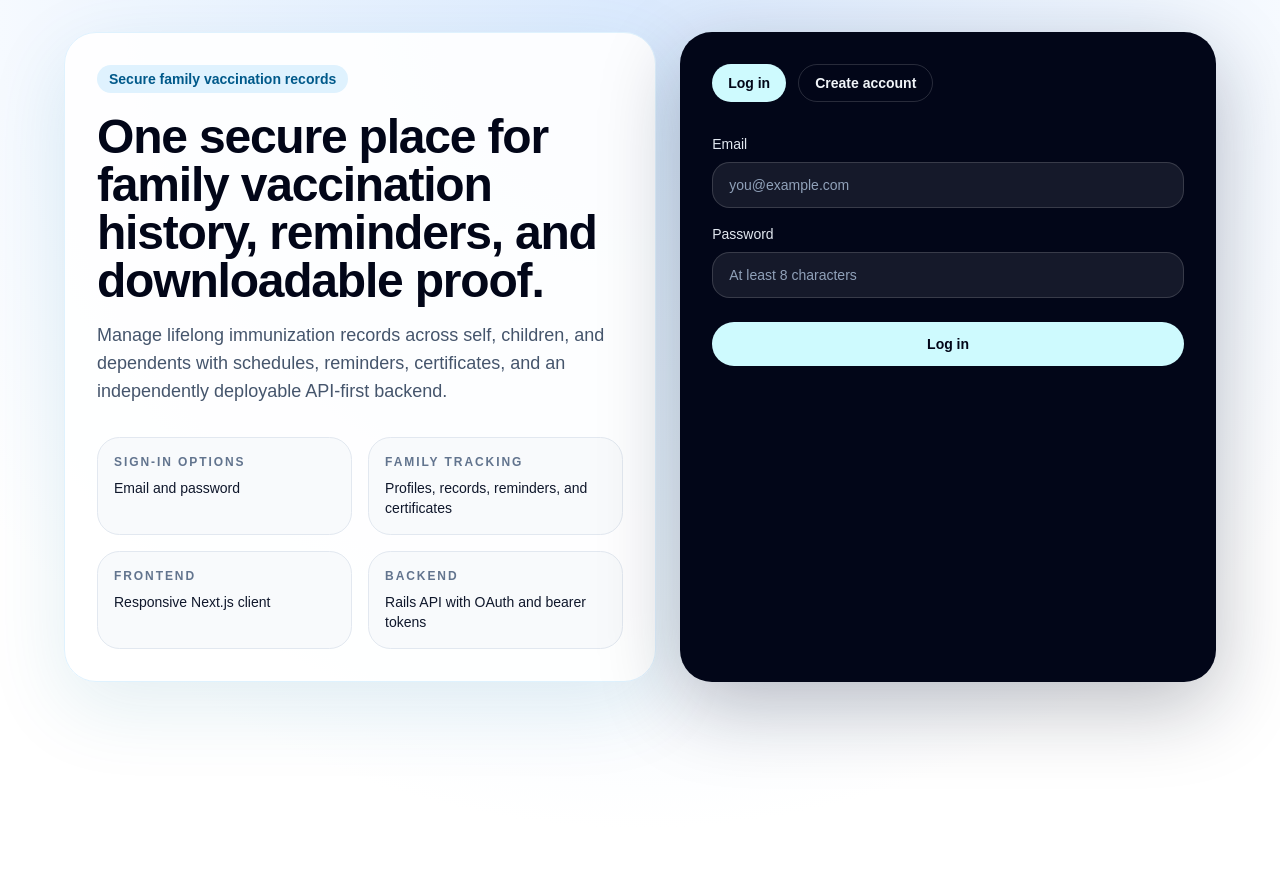
AuthShell › renders authenticated dashboard after successful login
Type "priya@example.com" into the field labelled "Email". click: (948,185)
box: [712,162,1184,208]
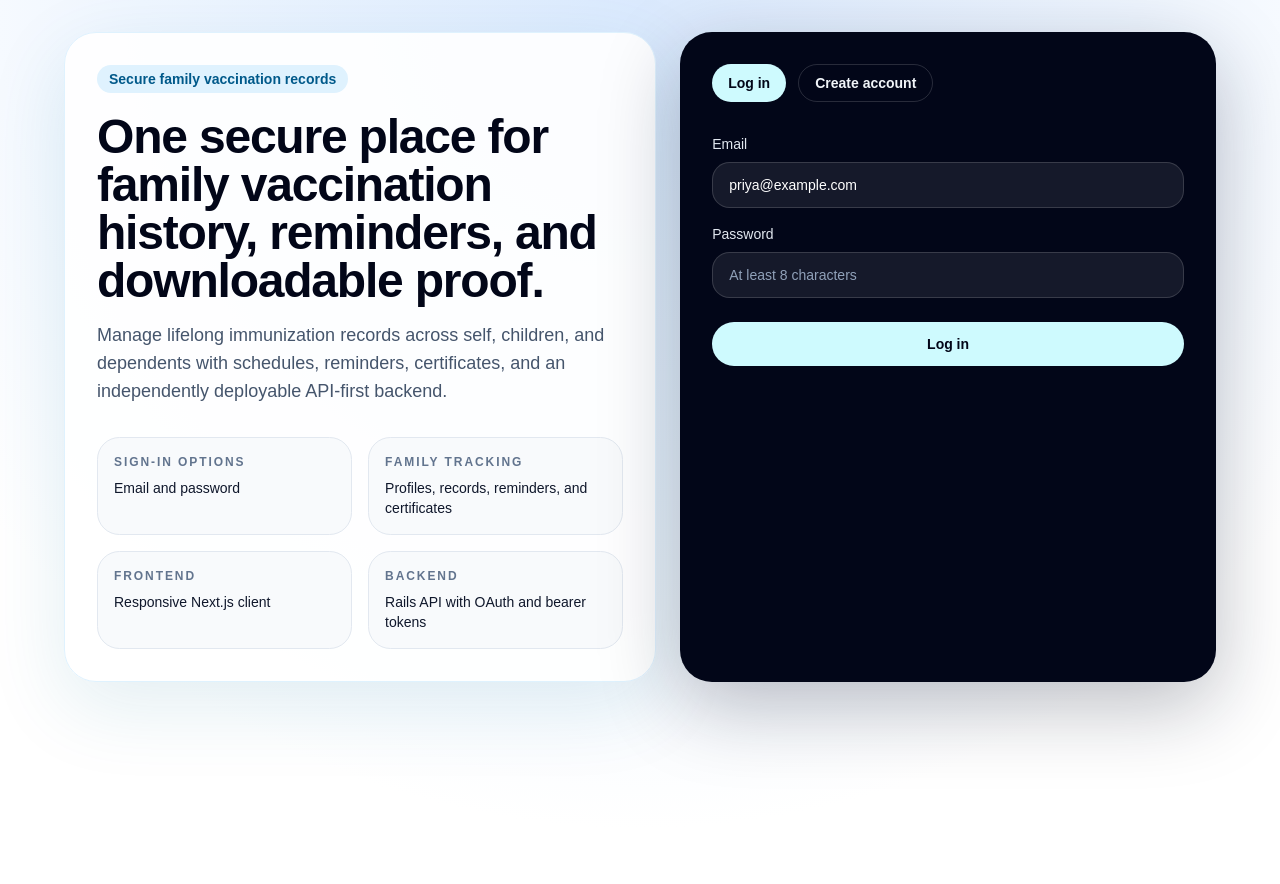
Type "password123" into the password field labelled "Password". click: (948,275)
box: [712,252,1184,298]
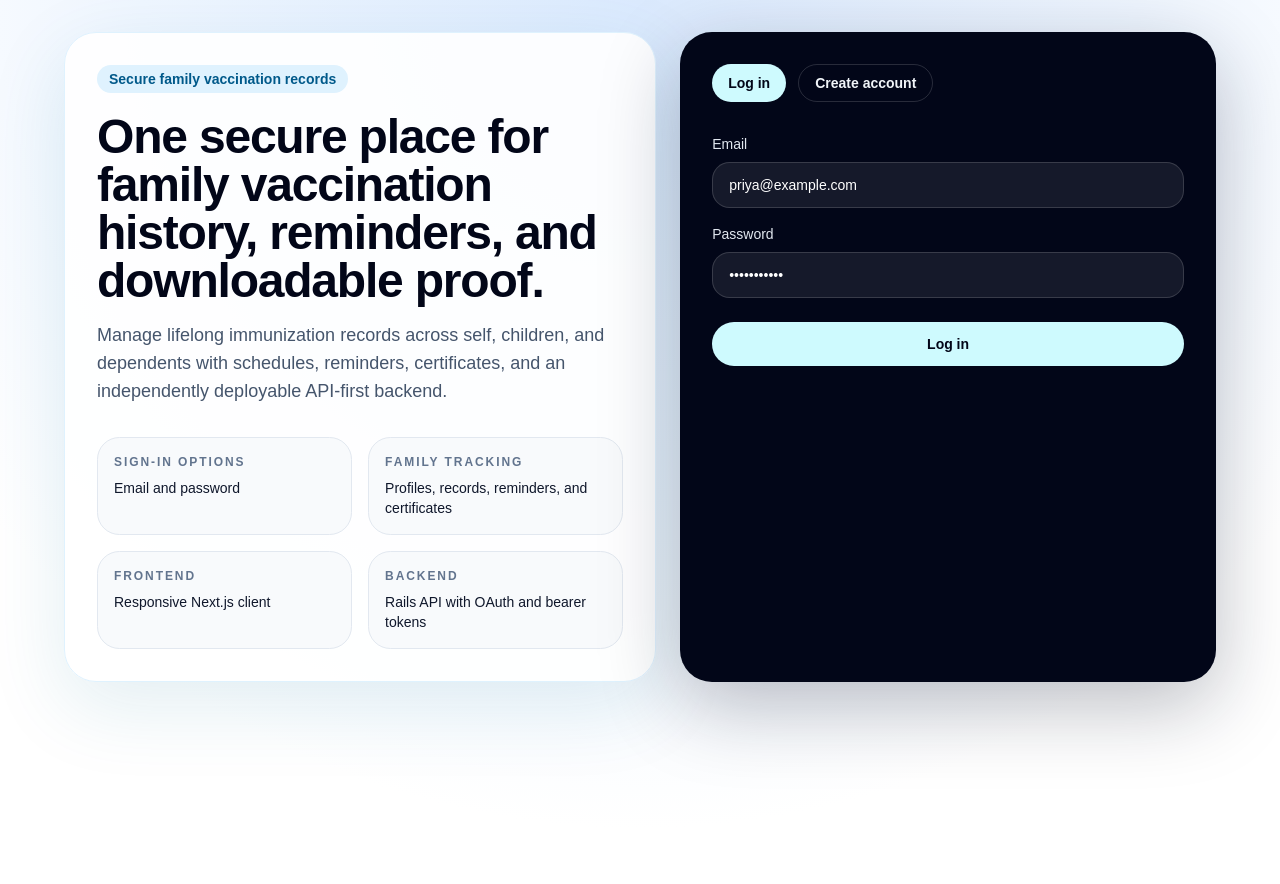
Click the 2nd button "Log in". click: (948,344)
box: [712,322,1184,366]
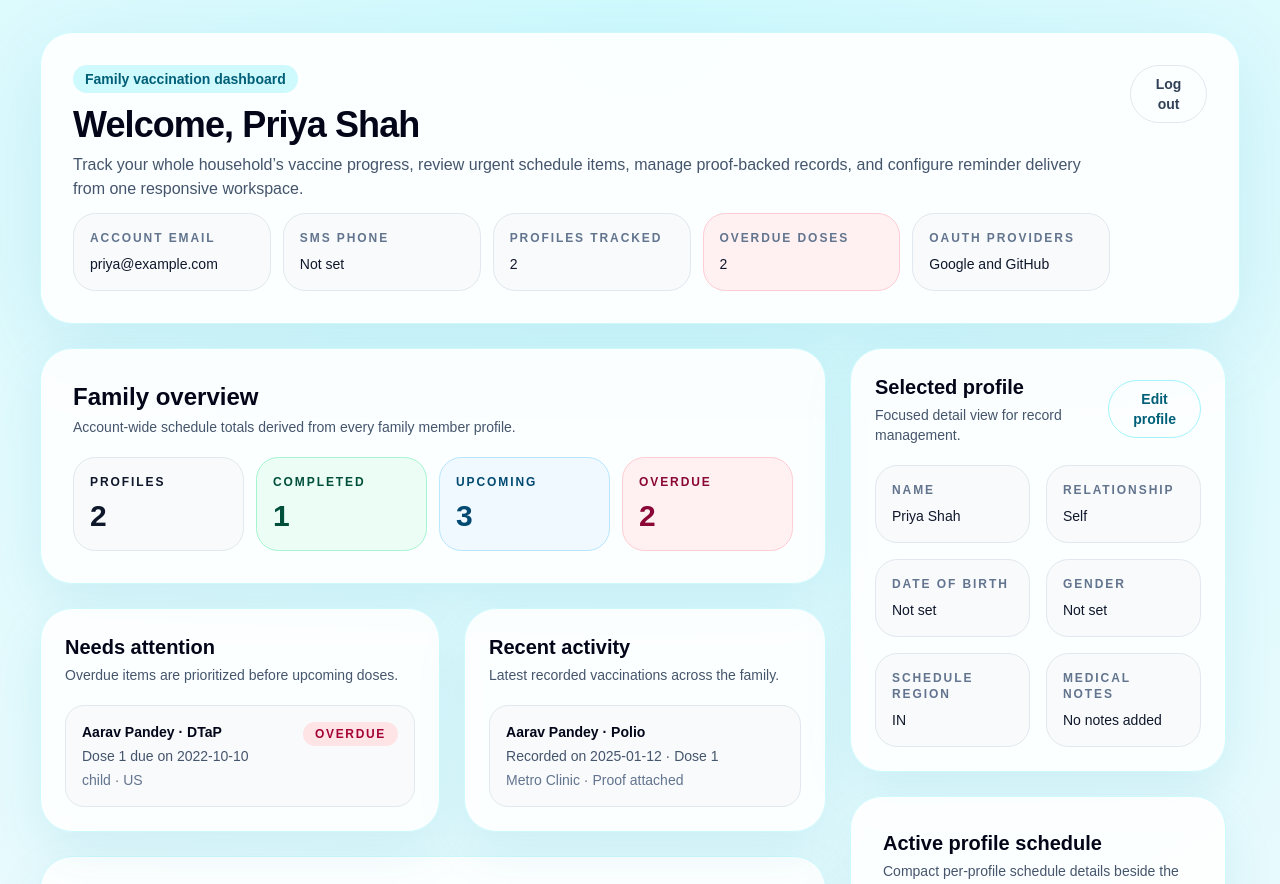
Check: the heading "Welcome, Priya Shah" is shown, box [73,104,419,145]
Check: the heading "Family overview" is shown, box [73,383,258,410]
